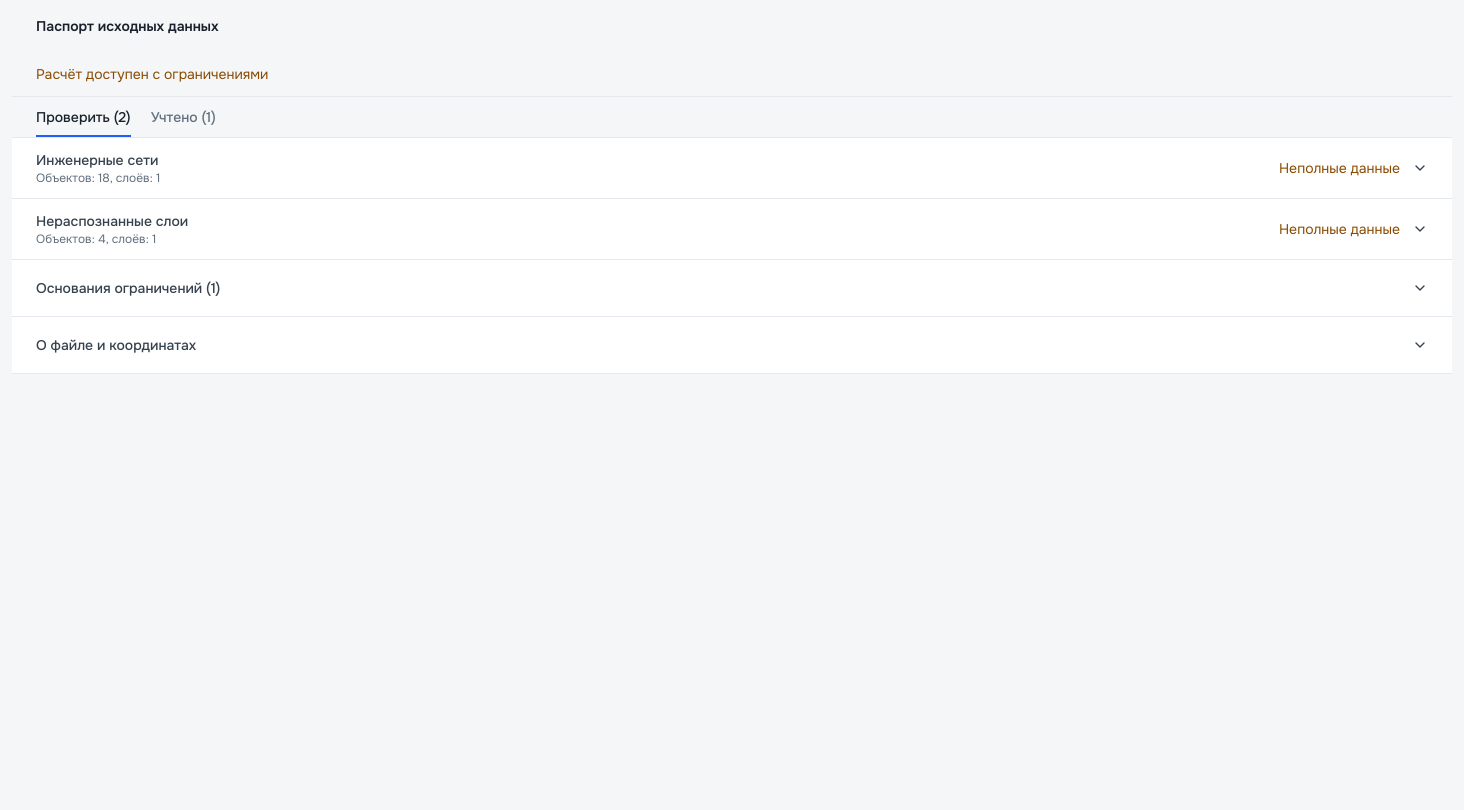
Test: DataPassportPanel › keeps coordinate declarations distinct from verified coordinates
Click the button "О файле и координатах". click: (116, 345)
box: [12,317,1452,373]
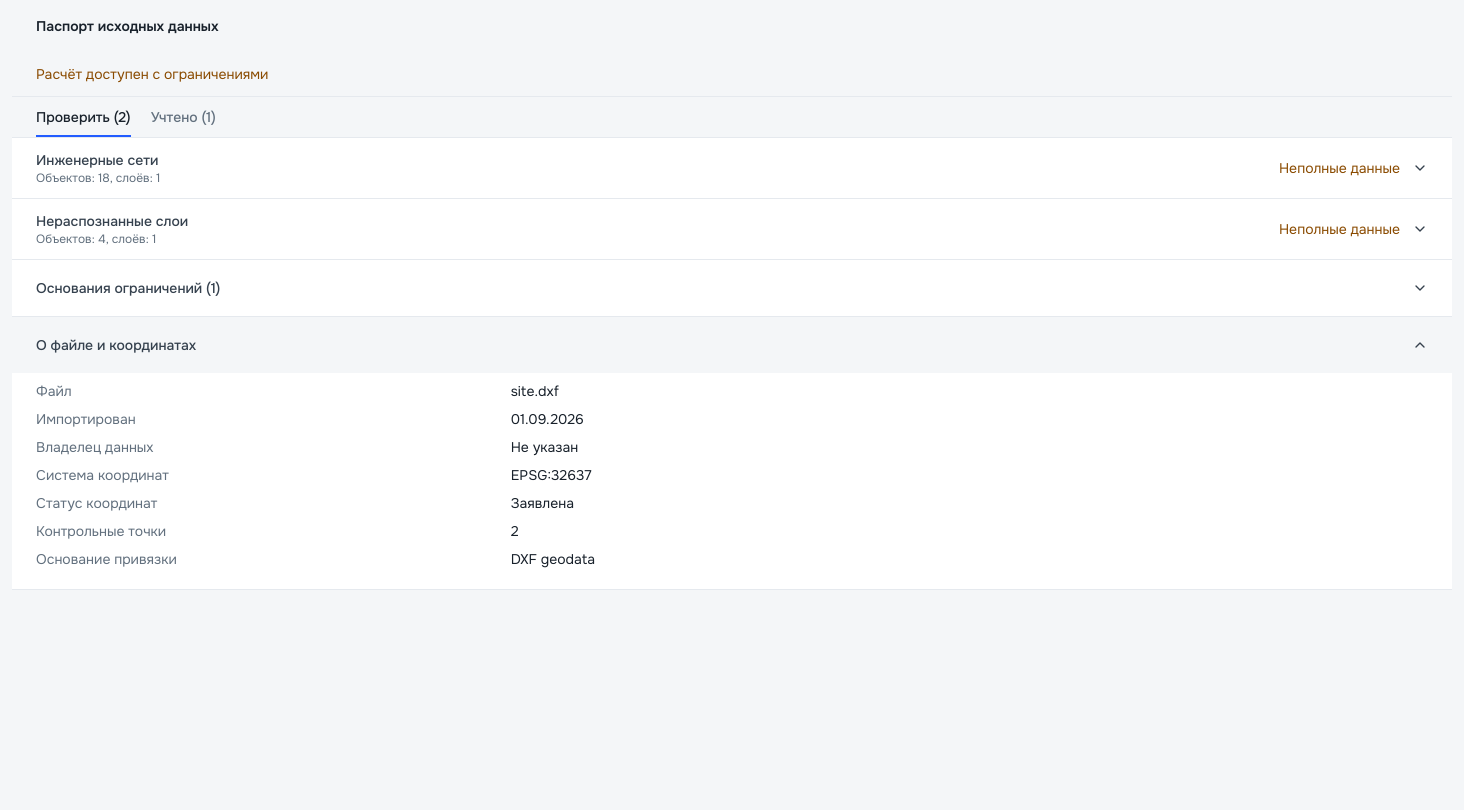
Expected: the text "Заявлена" is shown, [511,494,574,512]
Expected: the text "DXF geodata" is shown, [511,550,595,568]
